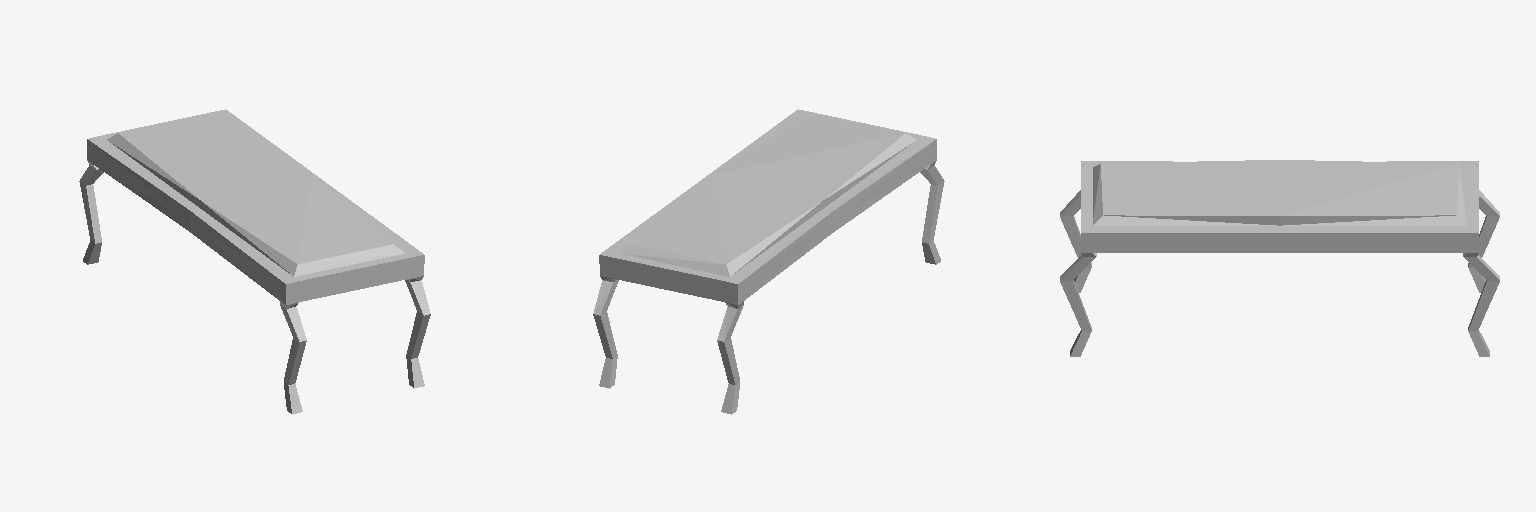
File: banco.obj
The picture shows the model from 3 angles: view 1: azimuth 30°, elevation 25°; view 2: azimuth 150°, elevation 25°; view 3: azimuth 270°, elevation 25°; orthographic projection.
Parts seen in each view (by area): view 1: Cube; view 2: Cube; view 3: Cube.
Part boxes in pixels (bbox=[...]): Cube: bbox=[79, 109, 430, 414]; Cube: bbox=[593, 109, 944, 414]; Cube: bbox=[1060, 160, 1499, 356].
Bounding box in the file's own units: 2.05 × 1.95 × 5.63.